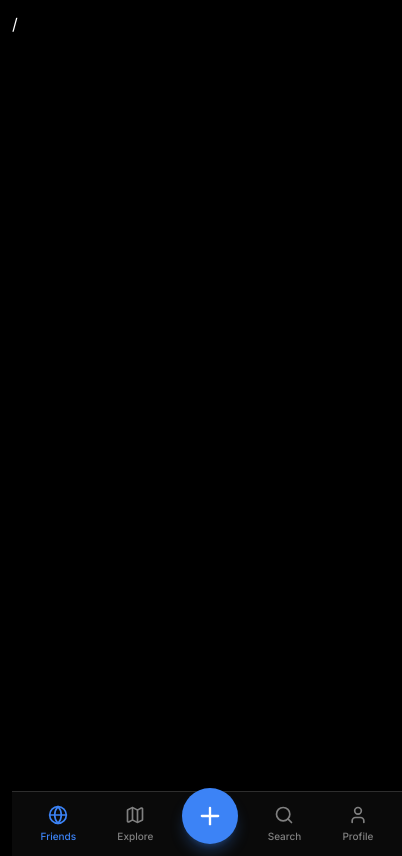
per-tab history › going back within a tab is remembered too
Click the button "Search". click: (284, 824)
box: left=256, top=796, right=313, bottom=852
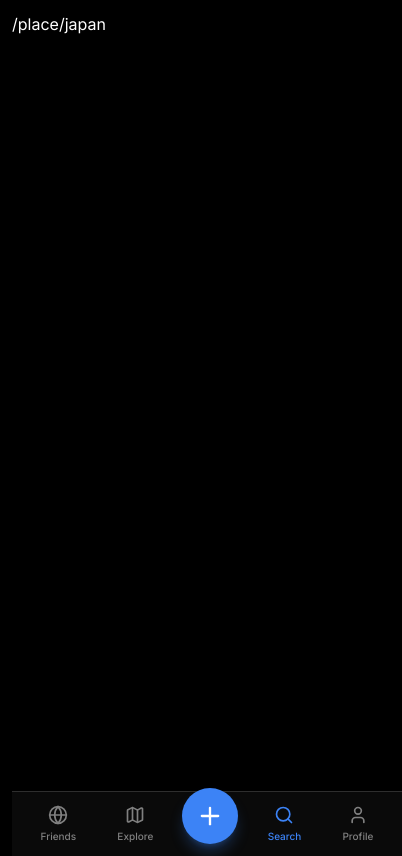
Click the button "Profile". click: (358, 824)
box: left=330, top=796, right=385, bottom=852
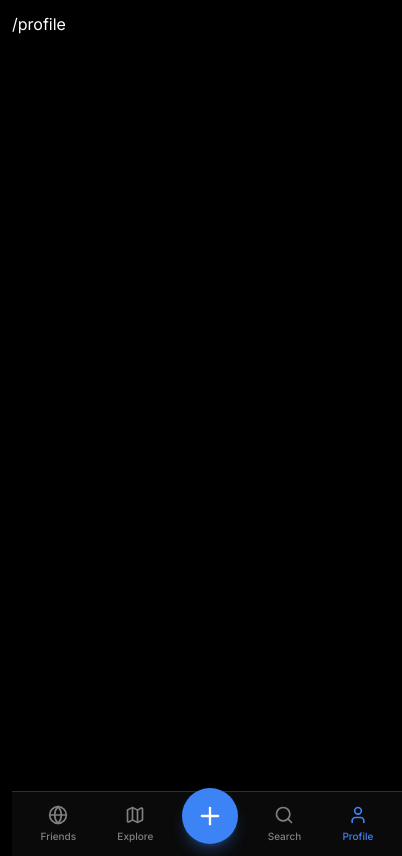
Click the button "Search". click: (284, 824)
box: left=256, top=796, right=313, bottom=852
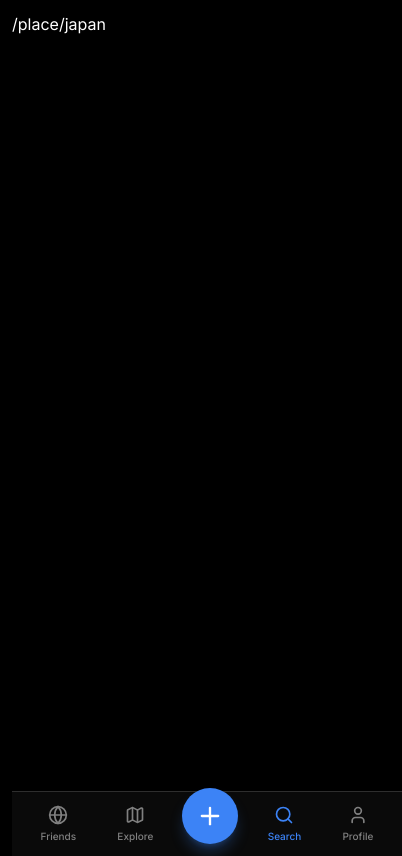
Expected: the text with test id "screen" reads "/place/japan", left=12, top=14, right=106, bottom=34
